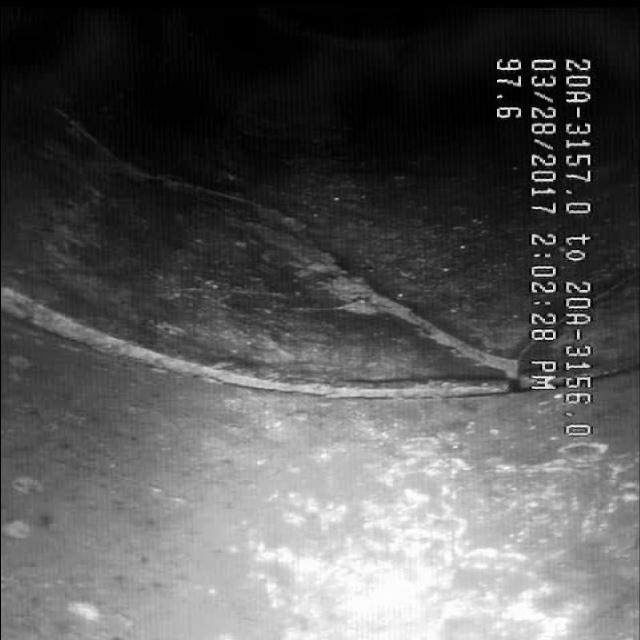Fracture: (20, 128, 479, 446)
